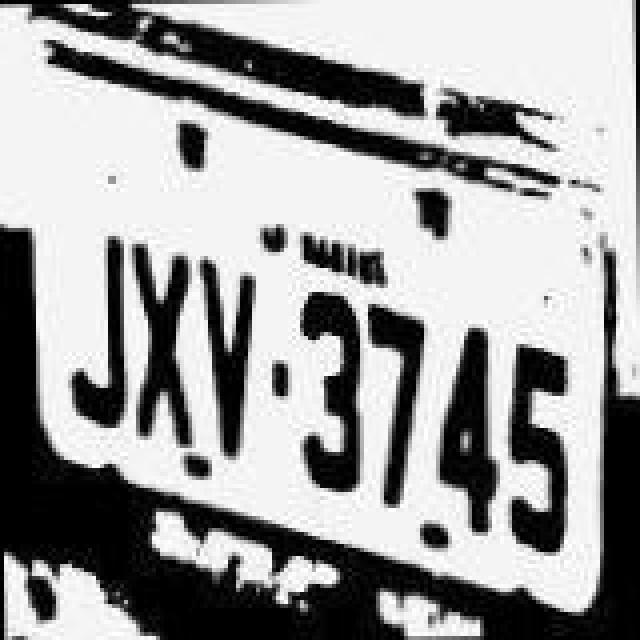3: (288, 290, 364, 510)
4: (434, 310, 506, 534)
5: (500, 326, 576, 562)
7: (360, 296, 428, 516)
J: (60, 208, 132, 448)
V: (196, 256, 260, 460)
X: (122, 240, 198, 452)
